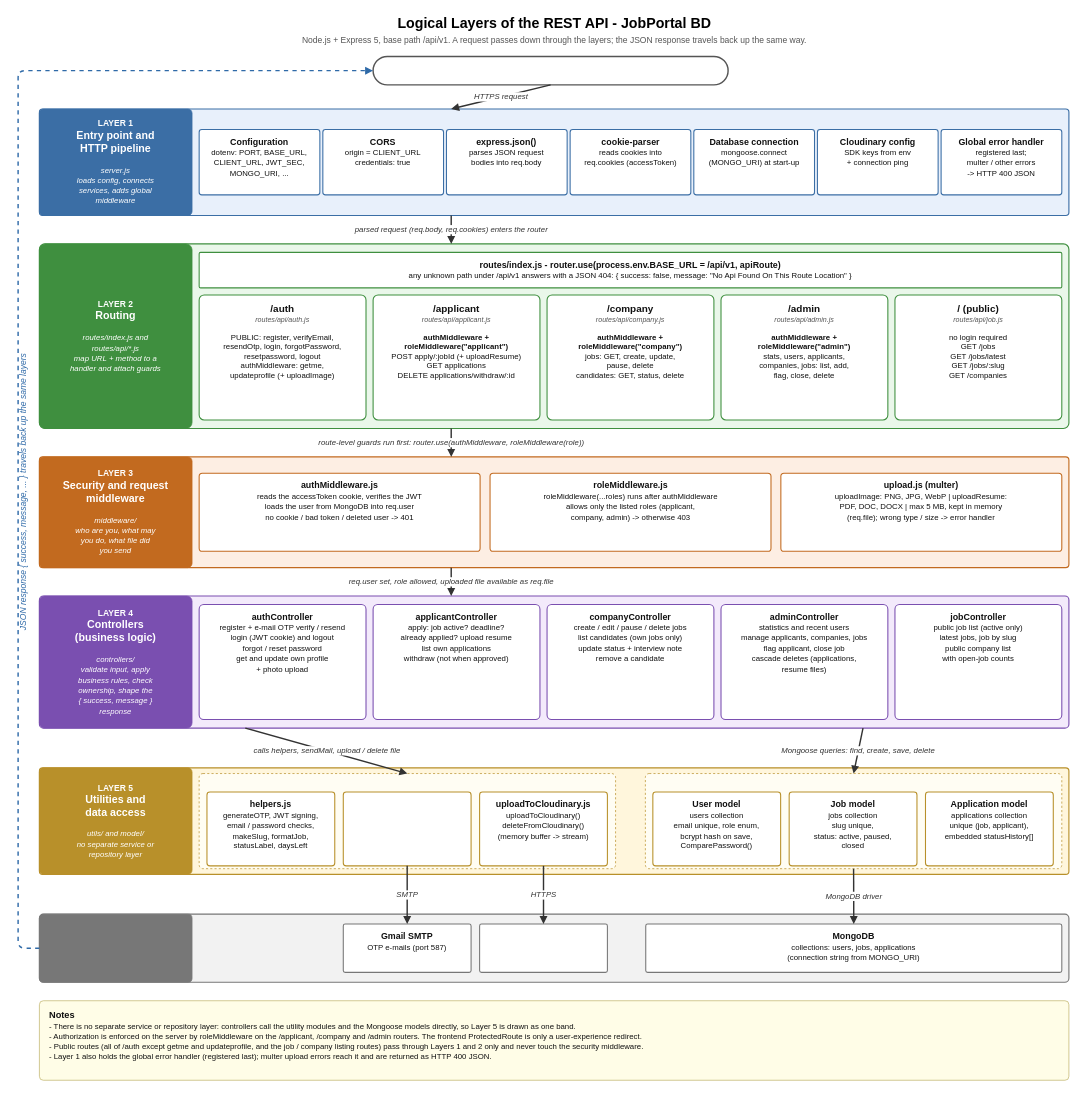
The diagram is 1081 pixels wide and 1093 high, and some of its shapes have lost their labels. Here are the shapes that lost their labels. From the top down, the box of each, then its label:
(372, 55, 728, 85): HTTP request from the React app - e.g. POST /api/v1/auth/login
(342, 791, 471, 866): mailService.js sendMail() with Nodemailer + mailTemplate.js (OTP e-mail HTML)
(198, 773, 616, 869): Utility modules (utils/)
(645, 773, 1062, 869): Mongoose models (model/)
(39, 913, 192, 982): EXTERNAL Systems and persistence
(479, 923, 608, 973): Cloudinary photos, logos, resumes
